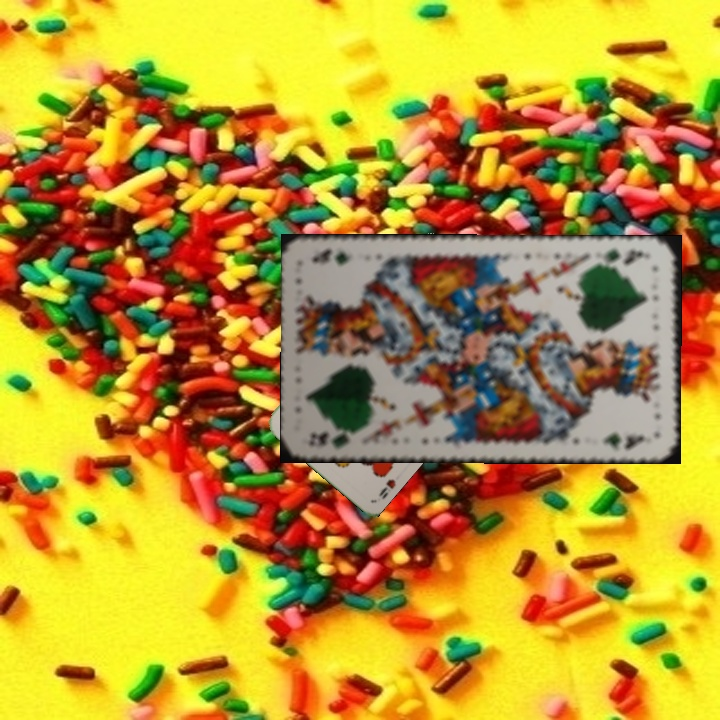GK: (596, 244, 654, 269), (305, 427, 364, 451)
H9: (374, 475, 398, 502)
